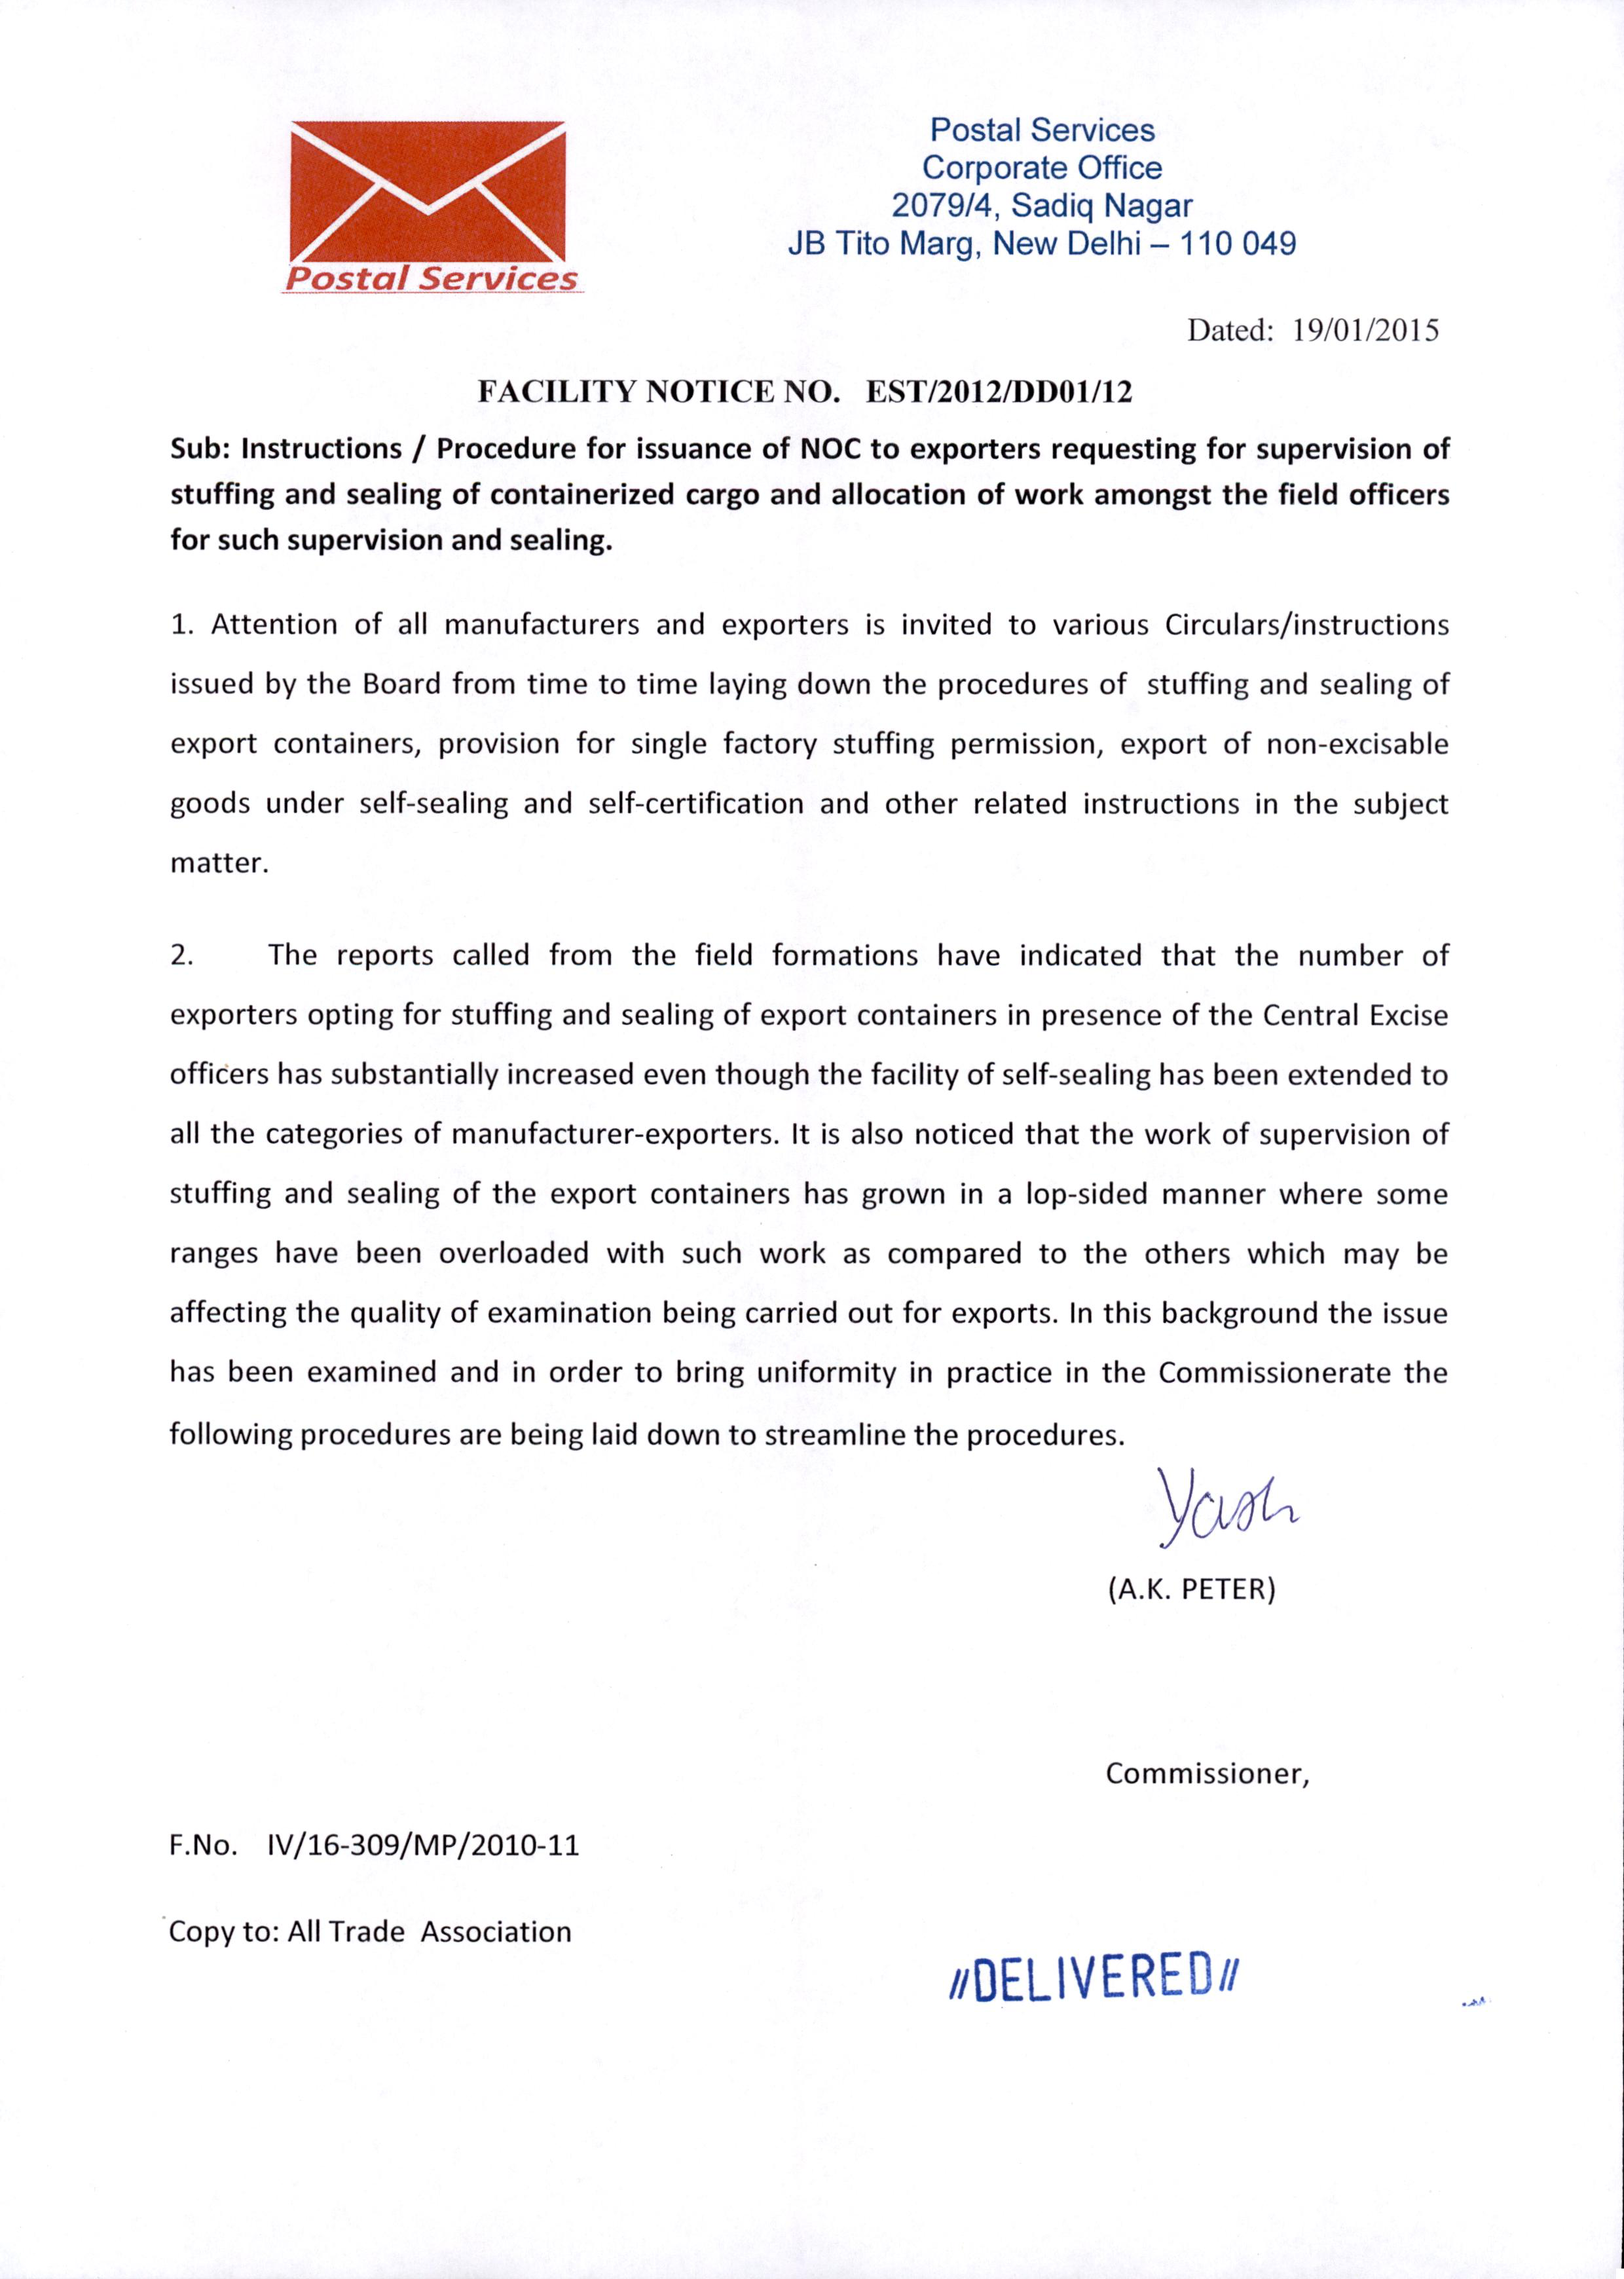Signature: (1151, 1453, 1309, 1553)
